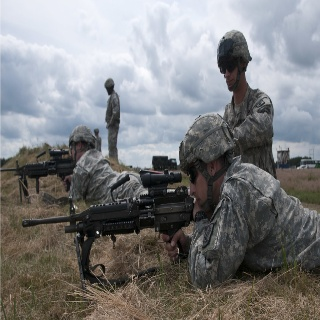rifle: (21, 170, 192, 283), (1, 148, 80, 195)
